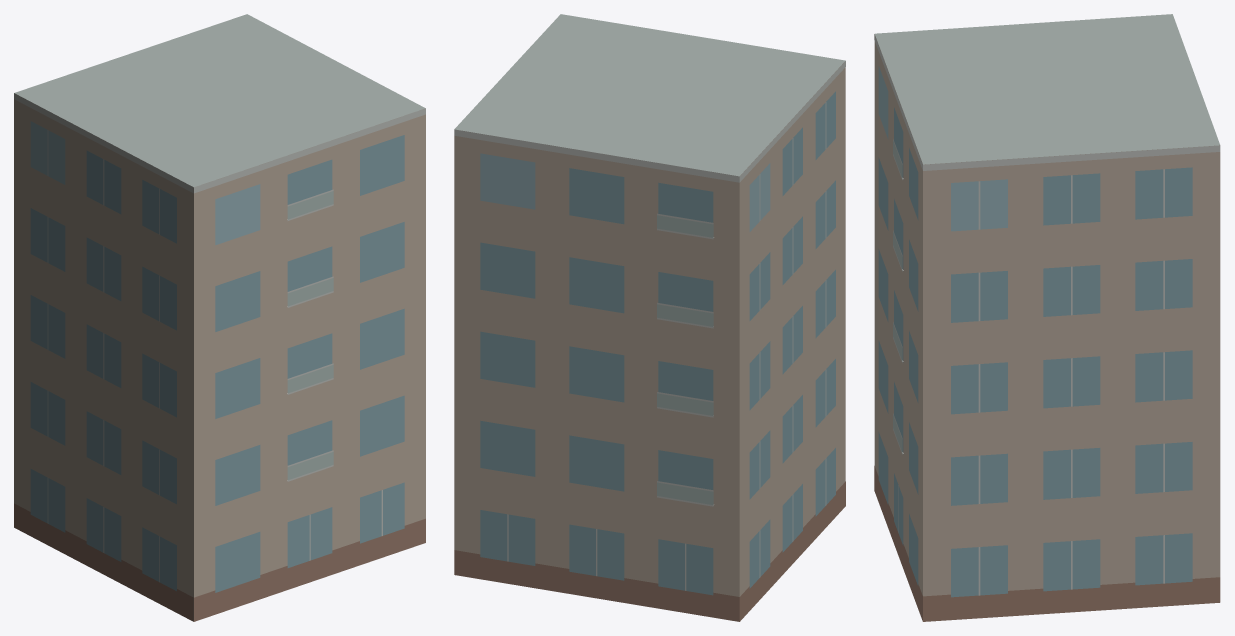
The model's file is survey-upis-32985533.glb.
3 renders of one model, left to right at view 1: azimuth 30°, elevation 25°; view 2: azimuth 150°, elevation 25°; view 3: azimuth 270°, elevation 25°, orthographic. The views are drawn at different scales.
Visible parts, largest first — view 1: survey-upis-32985533.tmp; view 2: survey-upis-32985533.tmp; view 3: survey-upis-32985533.tmp.
Boxes of the visible parts, x1=… form: survey-upis-32985533.tmp: x1=14, y1=14, x2=425, y2=621; survey-upis-32985533.tmp: x1=454, y1=14, x2=845, y2=621; survey-upis-32985533.tmp: x1=874, y1=14, x2=1220, y2=621.
Size of the model in its own units: 12.15 by 17.2 by 11.8.
